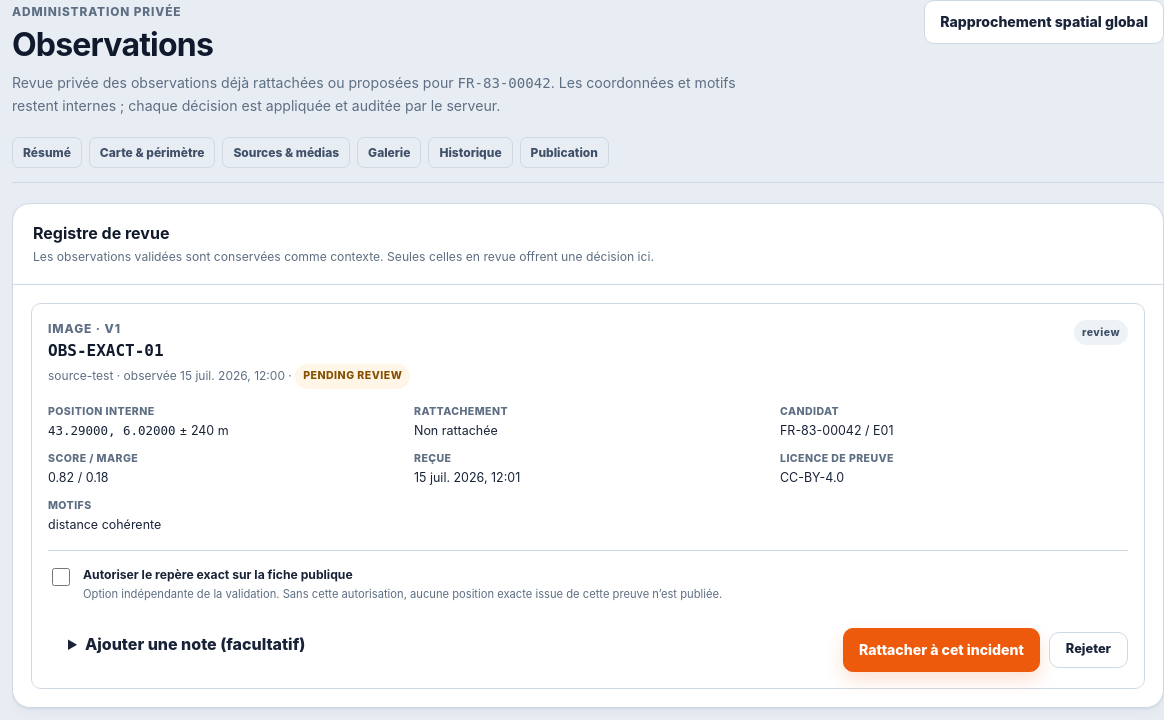
Test: pages de workflow administrateur › ne publie un repère exact qu’après consentement explicite dans le dossier incident
The image size is (1164, 720).
Expected: the heading "Registre de revue" is shown, left=33, top=223, right=169, bottom=243
Click the checkbox labelled "Autoriser le repère exact": x=61, y=577 left=52, top=568, right=70, bottom=586
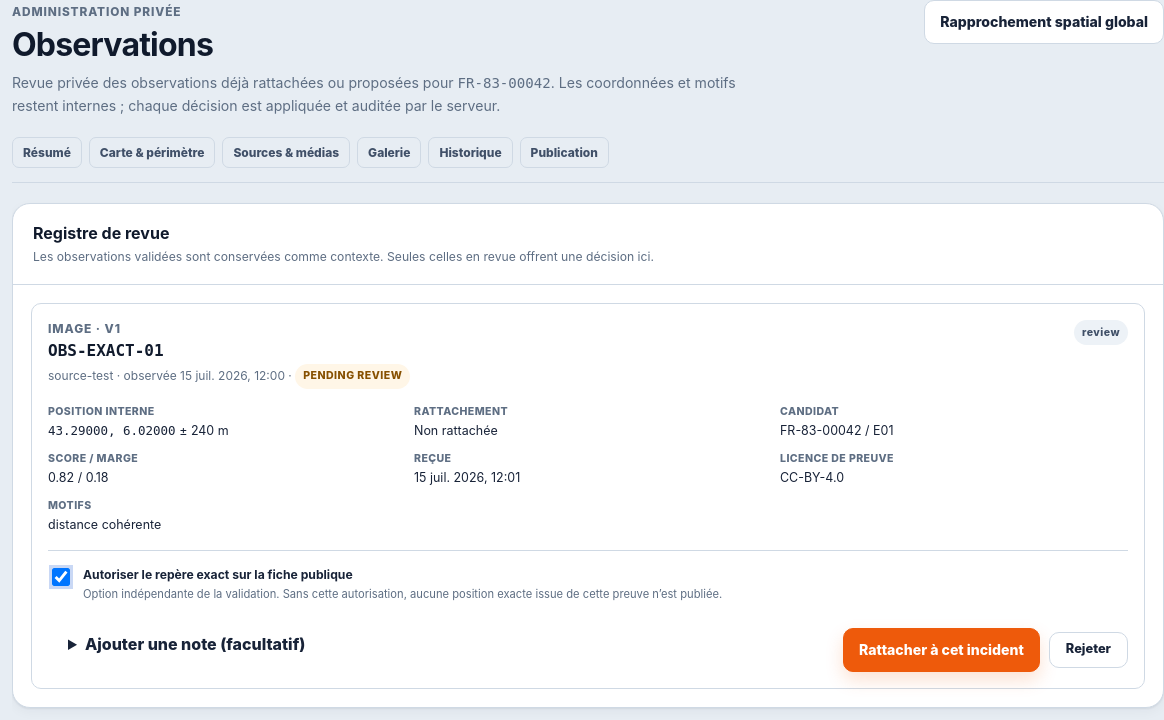
Click the button "Rattacher à cet incident": x=941, y=650 left=843, top=628, right=1040, bottom=672
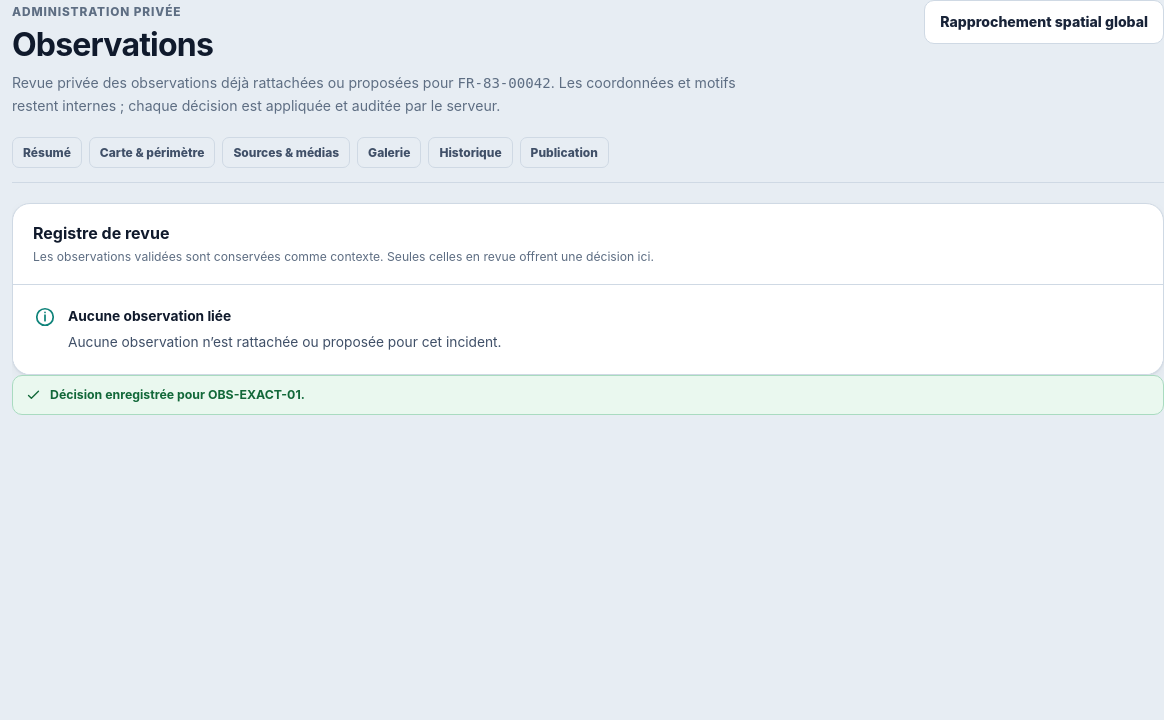
Expected: the text "Décision enregistrée pour OBS-EXACT-01." is shown, left=50, top=386, right=305, bottom=403
